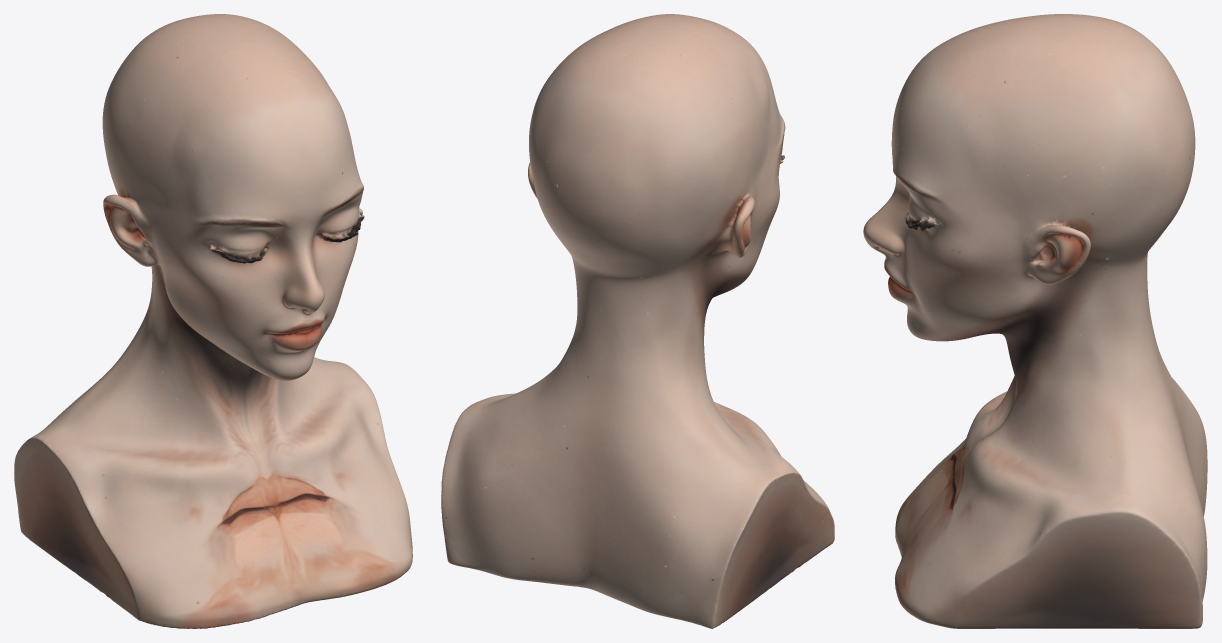
Rendered from woman.glb.
3 views of the same model, side by side, from view 1: azimuth 30°, elevation 25°; view 2: azimuth 150°, elevation 25°; view 3: azimuth 270°, elevation 25° (orthographic). The views are drawn at different scales.
Bounding box in the file's own units: 1.25 × 2 × 1.16.
1 material, 1 textured.
